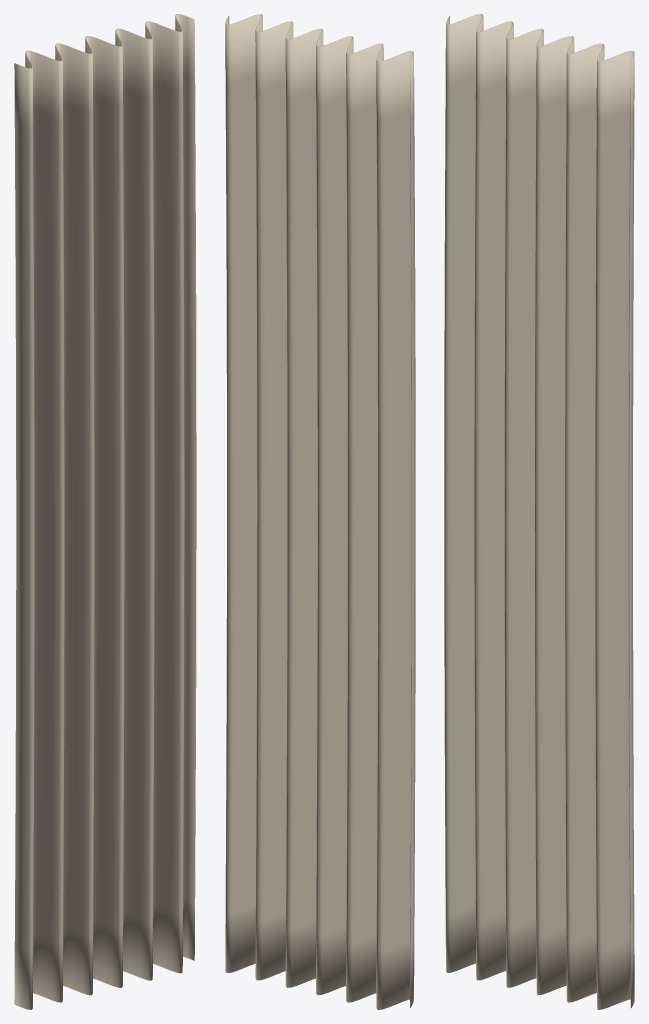
The model's file is linen-curtain.glb.
The picture shows the model from 3 angles, left to right: view 1: azimuth 30°, elevation 25°; view 2: azimuth 150°, elevation 25°; view 3: azimuth 330°, elevation 25°; orthographic projection.
Visible parts, largest first — view 1: Linen curtain; view 2: Linen curtain; view 3: Linen curtain.
Part boxes in pixels (x1,y1,x2,y2): Linen curtain: (14,14,196,1009); Linen curtain: (225,14,415,1009); Linen curtain: (444,14,634,1009).
Bounding box in the file's own units: 0.4814 × 2.4 × 0.0995.
